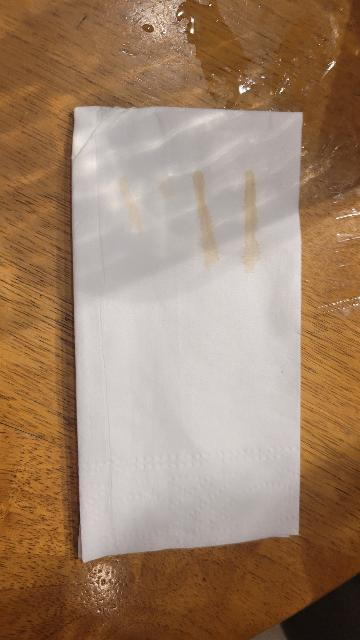Kagit: (73, 107, 304, 561)
